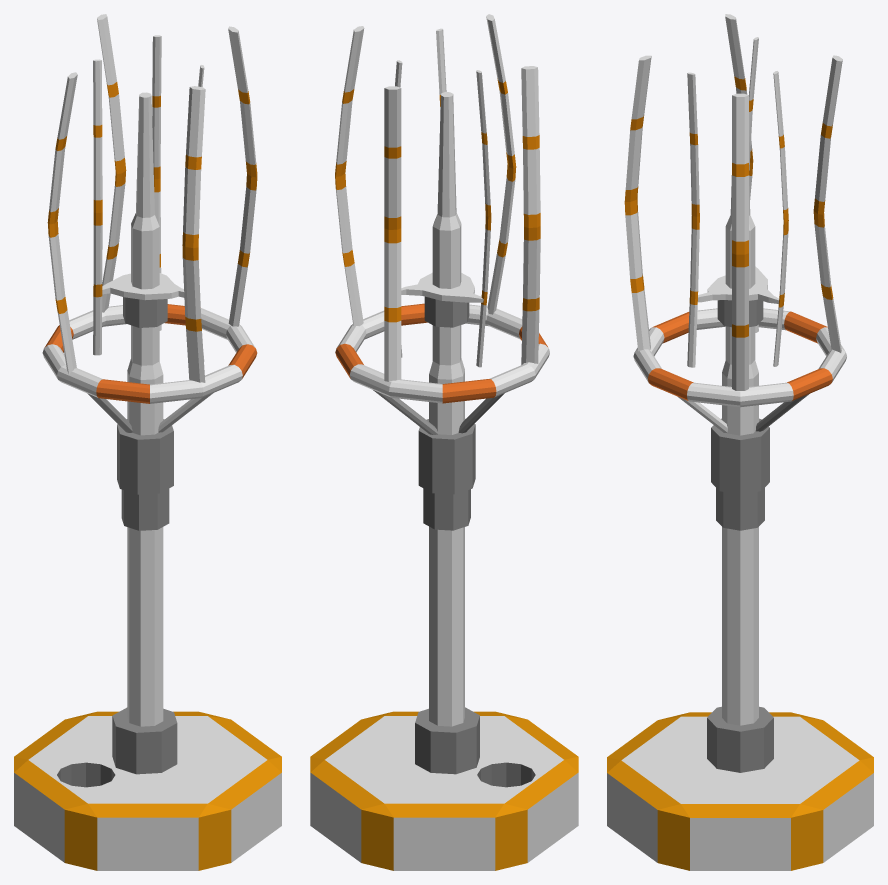
Rendered from Anim1.fbx.
The picture shows the model from 3 angles, left to right: view 1: azimuth 30°, elevation 25°; view 2: azimuth 150°, elevation 25°; view 3: azimuth 270°, elevation 25°; orthographic projection.
Parts seen in each view (by area): view 1: Cylinder.017, Cylinder.015; view 2: Cylinder.017, Cylinder.015; view 3: Cylinder.017, Cylinder.015.
Boxes of the visible parts, left/top/right/bottom form: Cylinder.017: left=14, top=35, right=281, bottom=870; Cylinder.015: left=42, top=14, right=257, bottom=403; Cylinder.017: left=310, top=28, right=578, bottom=870; Cylinder.015: left=335, top=14, right=549, bottom=403; Cylinder.017: left=607, top=37, right=873, bottom=870; Cylinder.015: left=624, top=14, right=846, bottom=407.
Size of the model in its own units: 282 by 959 by 301.
